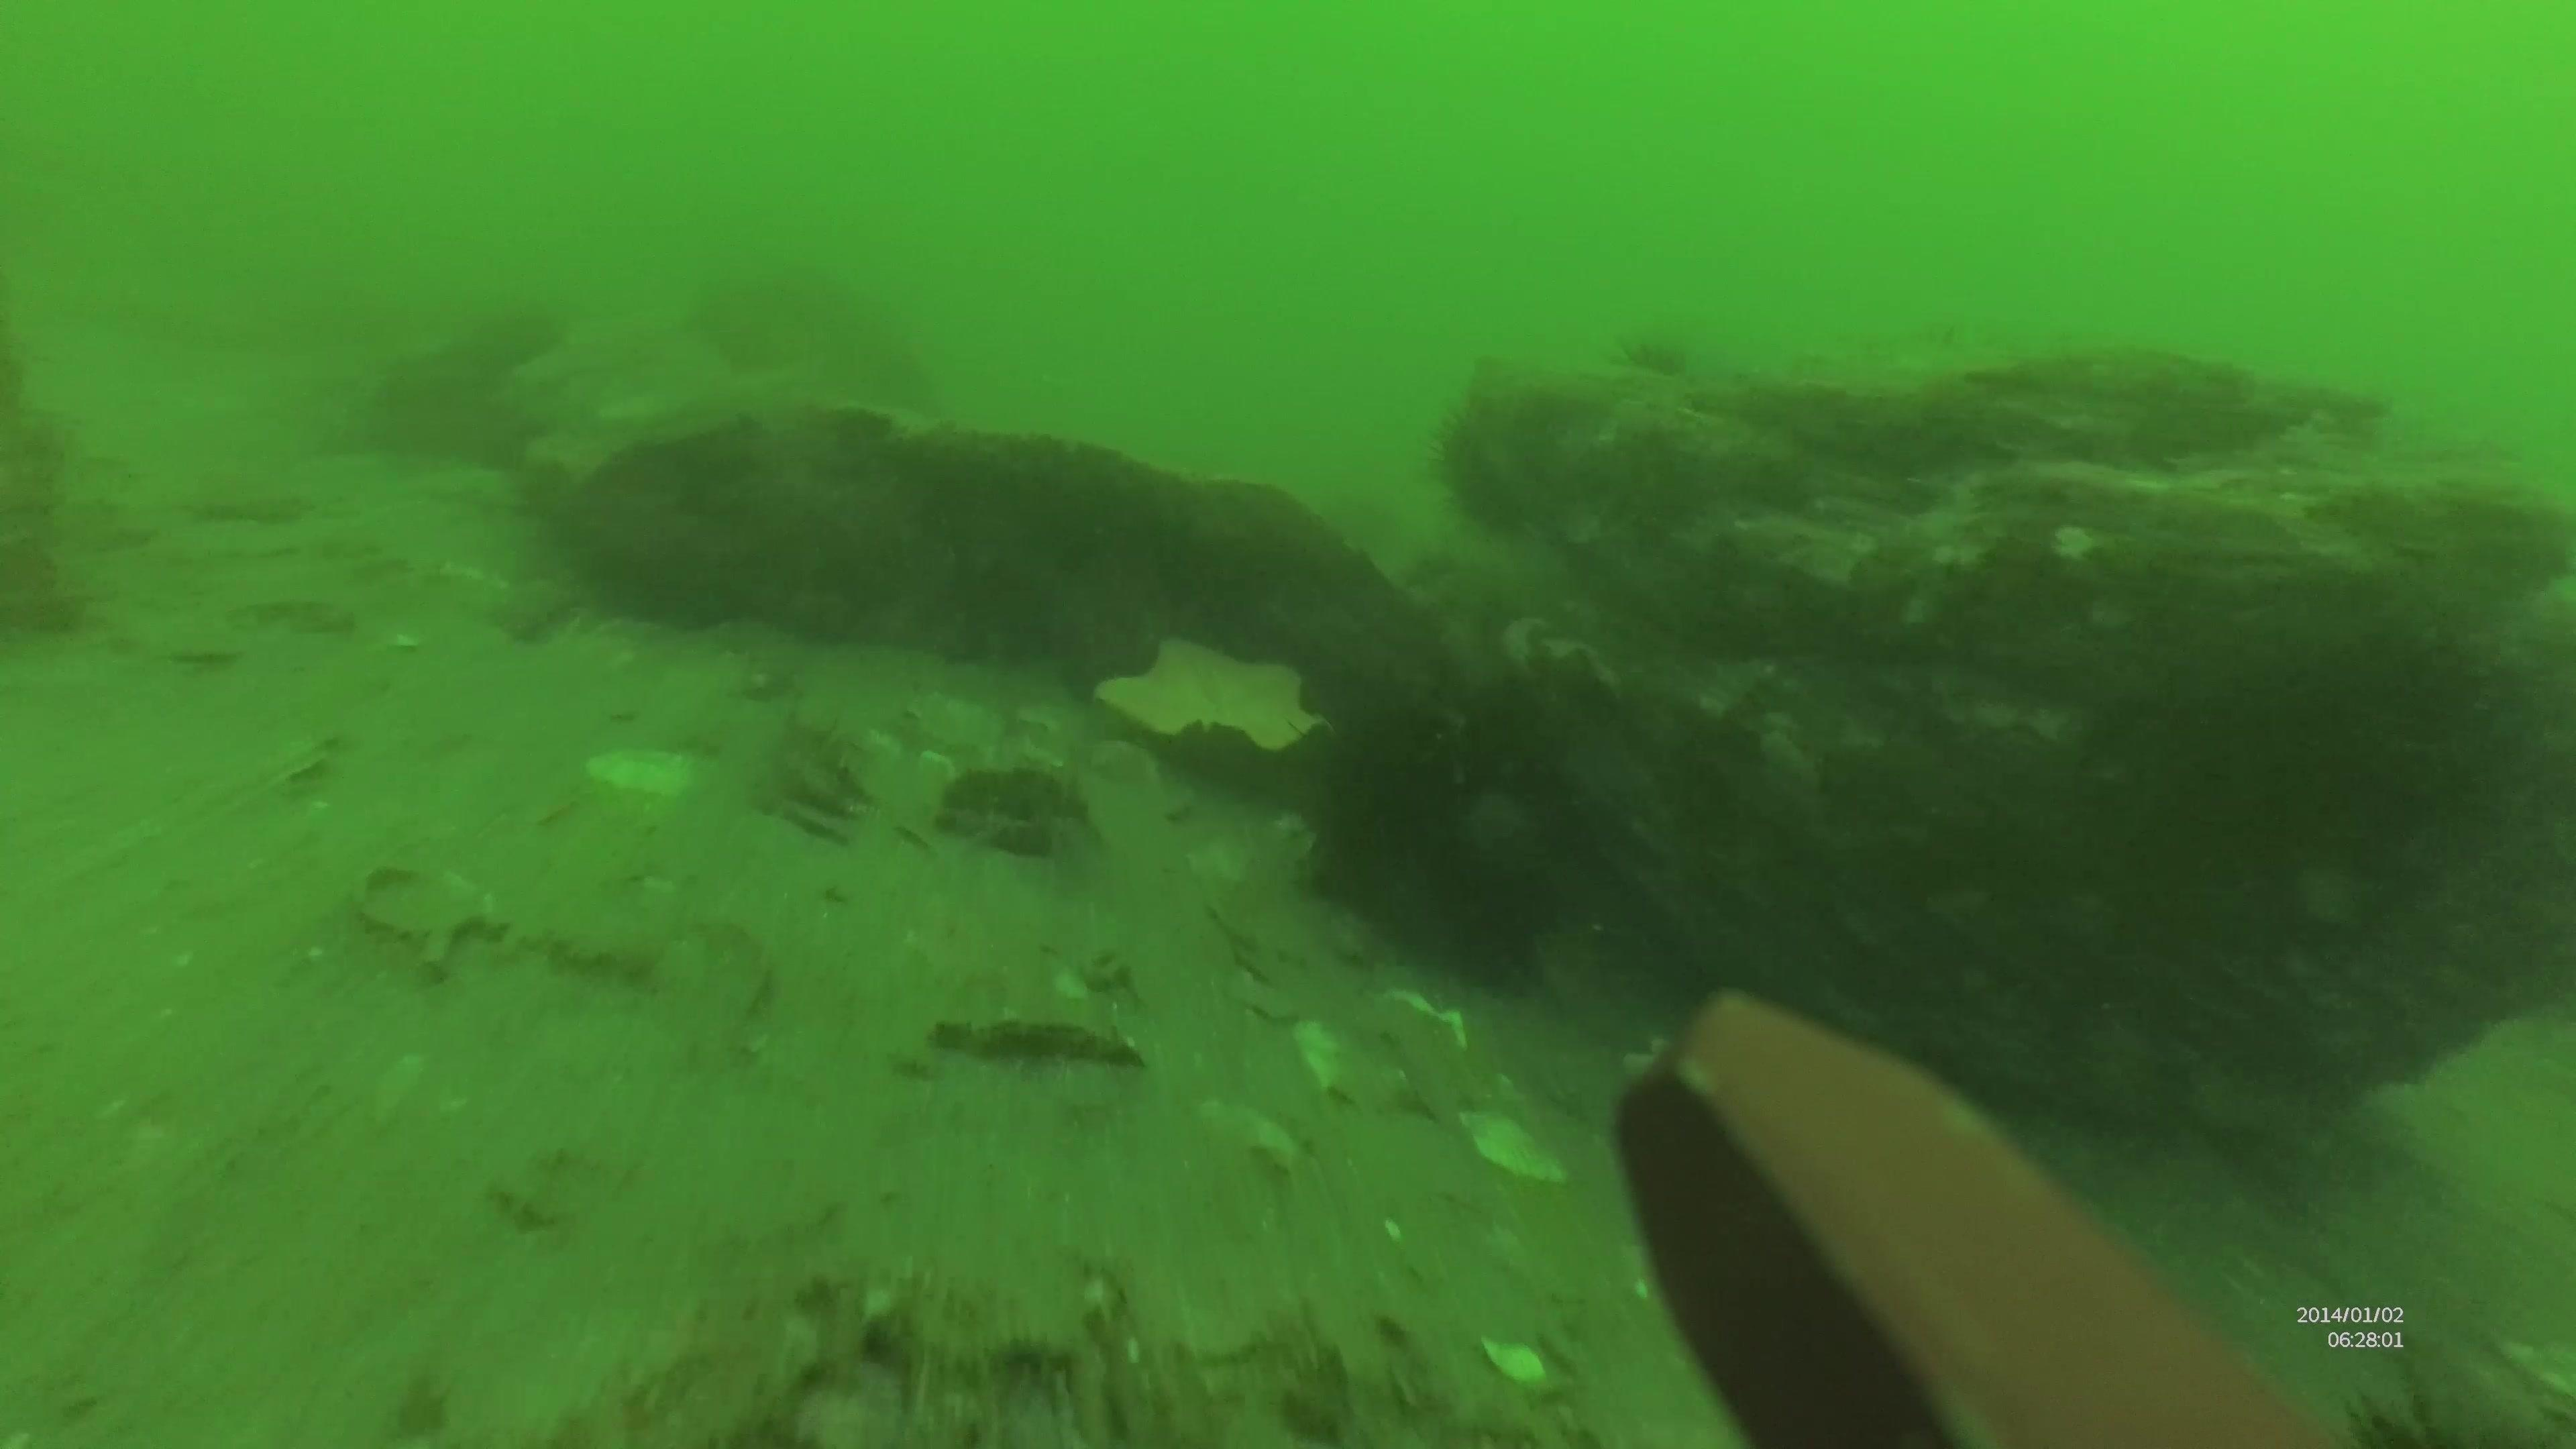starfish: (1090, 635, 1332, 771)
